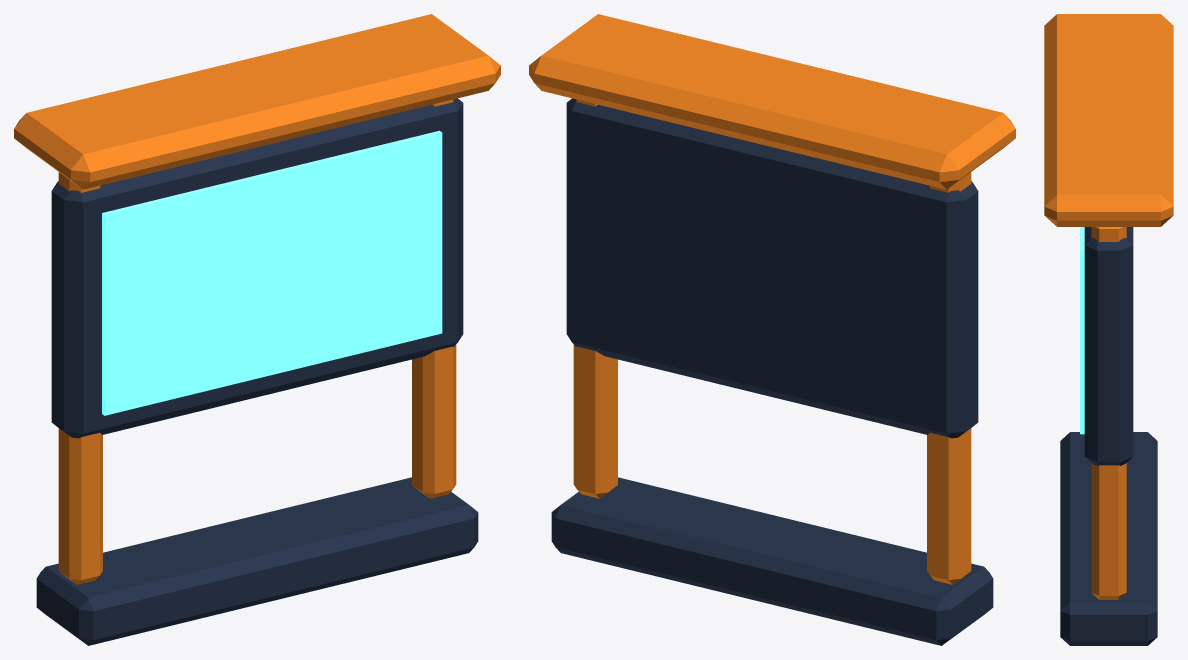
Rendered from jobboard.glb.
3 renders of one model, left to right at view 1: azimuth 30°, elevation 25°; view 2: azimuth 150°, elevation 25°; view 3: azimuth 270°, elevation 25°, orthographic. The views are drawn at different scales.
Parts seen in each view (by area): view 1: jobboard_body, jobboard_screen; view 2: jobboard_body; view 3: jobboard_body, jobboard_screen.
Part boxes in pixels (x1=…): jobboard_body: x1=14, y1=14, x2=500, y2=645; jobboard_screen: x1=102, y1=130, x2=442, y2=415; jobboard_body: x1=529, y1=14, x2=1015, y2=645; jobboard_body: x1=1044, y1=14, x2=1173, y2=645; jobboard_screen: x1=1080, y1=227, x2=1084, y2=434.
Bounding box in the file's own units: 2.8 × 3.11 × 0.8.
